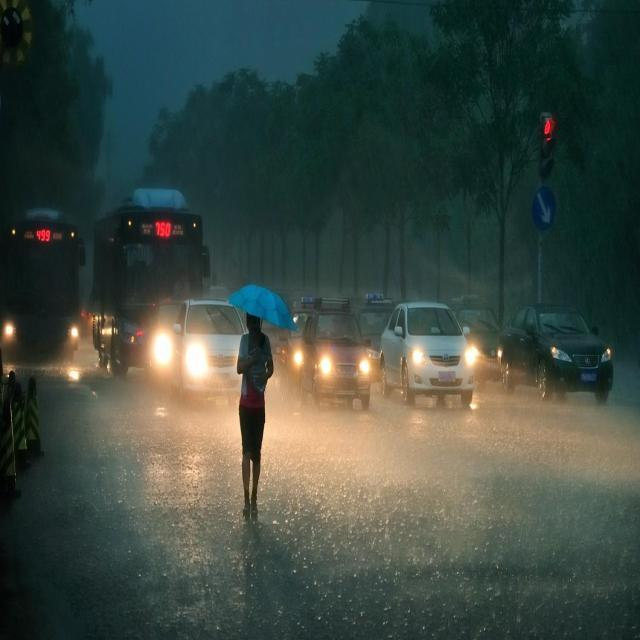car: (494, 304, 612, 402), (378, 300, 476, 404), (170, 298, 254, 402), (300, 296, 370, 410), (448, 295, 508, 383), (142, 297, 195, 387), (352, 294, 407, 374)
